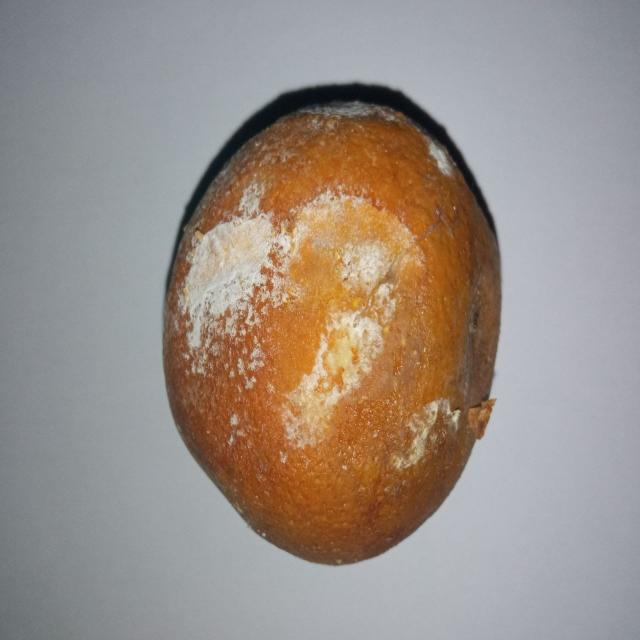rotten_orange: (159, 98, 497, 567)
